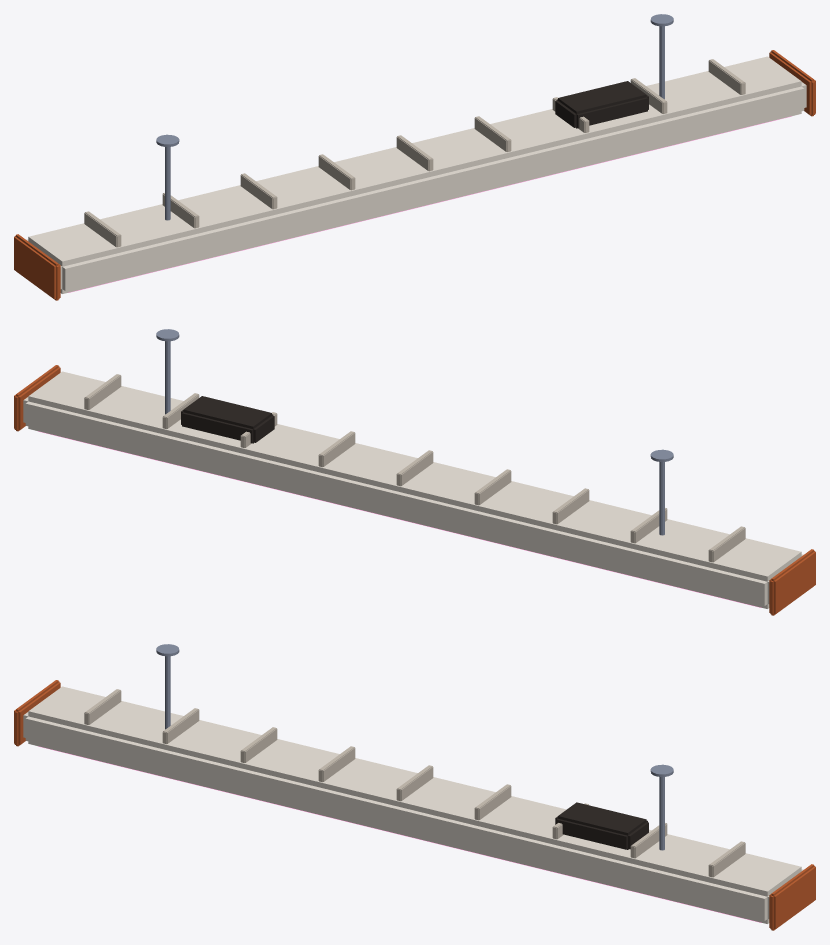
Rendered from led_bar.glb.
3 renders of one model, top to bottom at view 1: azimuth 30°, elevation 25°; view 2: azimuth 150°, elevation 25°; view 3: azimuth 330°, elevation 25°, orthographic.
Visible parts, largest first — view 1: Body_White, Body_Dim, Base_Basalt, Trim_Rust, Steel, LED_Emissive; view 2: Body_White, Body_Dim, Base_Basalt, Trim_Rust, Steel, LED_Emissive; view 3: Body_White, Body_Dim, Base_Basalt, Trim_Rust, Steel, LED_Emissive.
Boxes of the visible parts, box(x1,y1,x2,y2) form: Body_White: box(26, 56, 806, 293); Body_Dim: box(84, 59, 745, 247); Base_Basalt: box(555, 81, 648, 128); Trim_Rust: box(14, 50, 815, 300); Steel: box(156, 14, 673, 220); LED_Emissive: box(68, 116, 791, 292); Body_White: box(23, 371, 803, 608); Body_Dim: box(84, 374, 745, 562); Base_Basalt: box(181, 396, 274, 443); Trim_Rust: box(14, 365, 815, 615); Steel: box(156, 329, 673, 535); LED_Emissive: box(38, 431, 761, 607); Body_White: box(23, 686, 803, 923); Body_Dim: box(84, 689, 745, 877); Base_Basalt: box(555, 802, 648, 849); Trim_Rust: box(14, 680, 815, 930); Steel: box(156, 644, 673, 850); LED_Emissive: box(38, 746, 761, 922).
Bounding box in the file's own units: 1.22 × 0.175 × 0.118.
